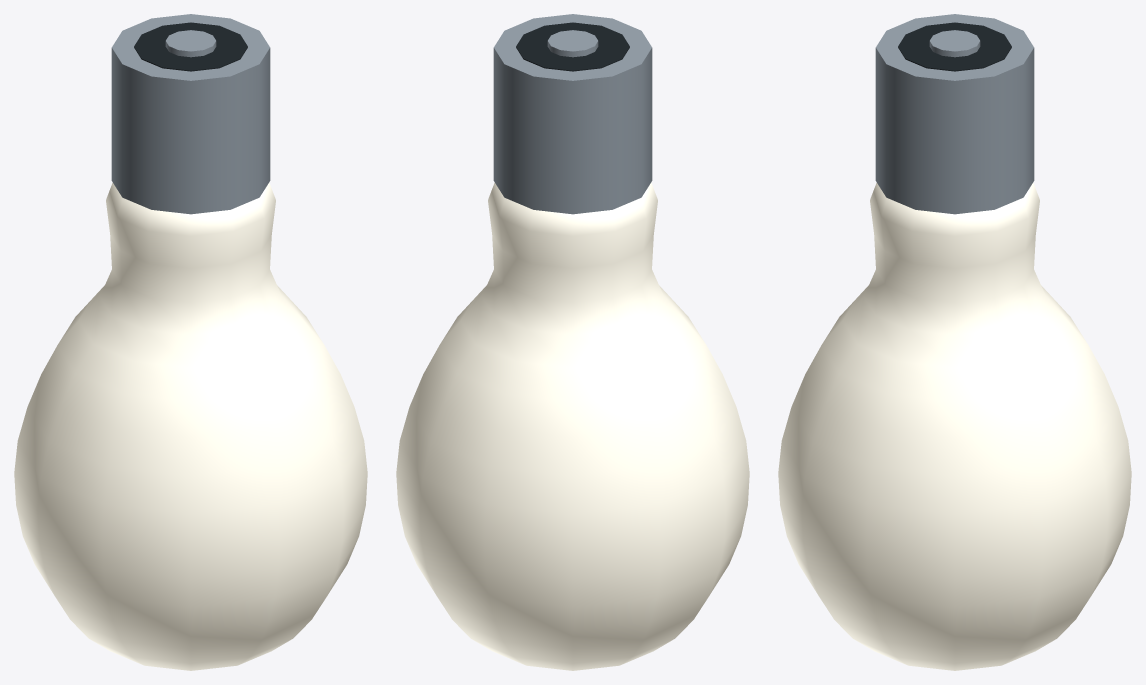
File: source.glb
The picture shows the model from 3 angles, left to right: view 1: azimuth 30°, elevation 25°; view 2: azimuth 150°, elevation 25°; view 3: azimuth 270°, elevation 25°; orthographic projection.
Visible parts, largest first — view 1: Emitters, 机加工金属, 密封及绝缘件; view 2: Emitters, 机加工金属, 密封及绝缘件; view 3: Emitters, 机加工金属, 密封及绝缘件.
Boxes of the visible parts, x1,y1,x2,y2 form: Emitters: (14, 183, 367, 670); 机加工金属: (111, 14, 270, 214); 密封及绝缘件: (134, 22, 247, 71); Emitters: (396, 183, 749, 670); 机加工金属: (493, 14, 652, 214); 密封及绝缘件: (516, 22, 629, 71); Emitters: (778, 183, 1131, 670); 机加工金属: (875, 14, 1034, 214); 密封及绝缘件: (898, 22, 1011, 71).
Bounding box in the file's own units: 0.0602 × 0.1153 × 0.0602.
